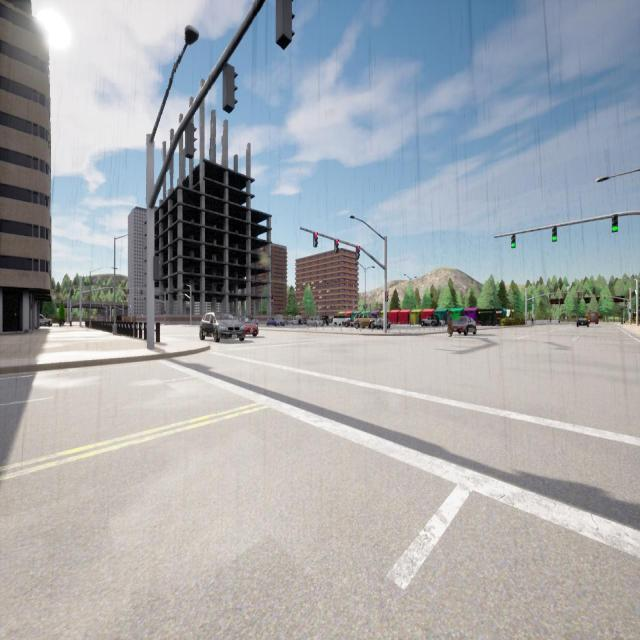Vehicle: (200, 313, 243, 342), (452, 316, 476, 334), (239, 318, 259, 337), (354, 314, 374, 329), (267, 316, 285, 326), (421, 316, 437, 326), (39, 314, 52, 326), (376, 317, 390, 328), (333, 316, 350, 325), (587, 312, 598, 324), (577, 318, 589, 327), (307, 319, 322, 326), (288, 318, 298, 324), (322, 316, 328, 325), (346, 320, 352, 327)
traffic_light: (276, 0, 296, 50), (223, 64, 238, 113), (186, 124, 197, 160), (154, 256, 159, 280), (612, 214, 618, 232), (552, 226, 557, 242), (511, 234, 516, 248), (313, 233, 317, 247), (356, 246, 360, 259), (334, 240, 338, 252), (386, 291, 388, 302), (124, 296, 126, 300), (134, 297, 136, 301), (164, 310, 166, 314)
